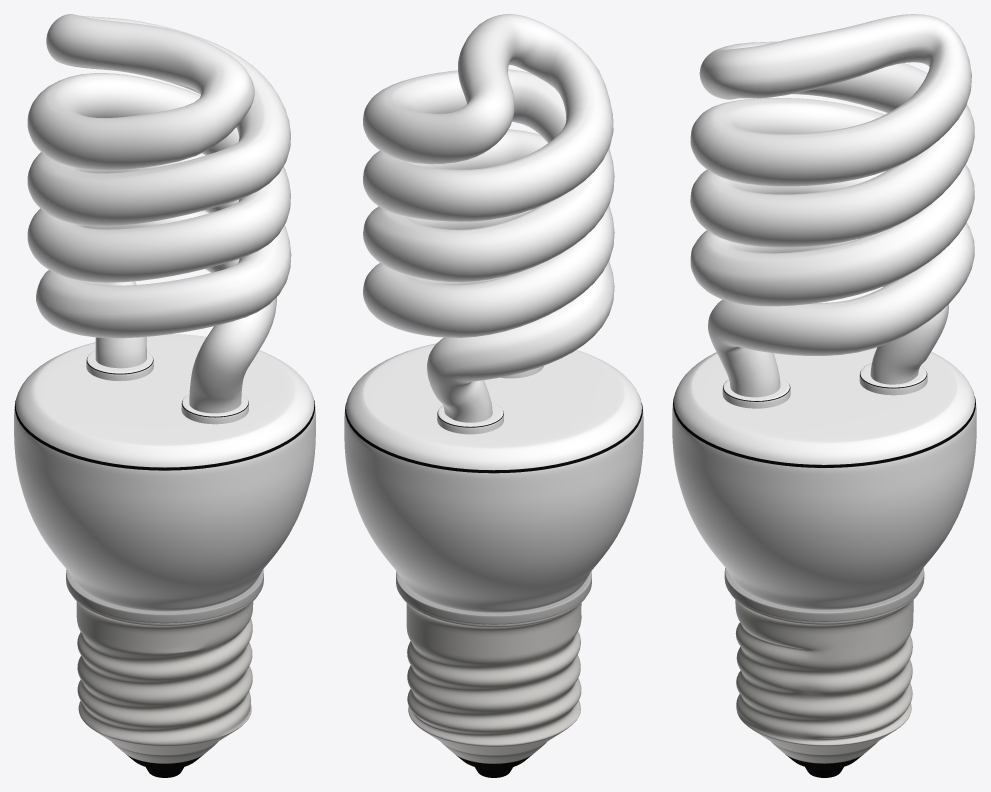
File: bulb.fbx
3 views of the same model, side by side, from view 1: azimuth 30°, elevation 25°; view 2: azimuth 150°, elevation 25°; view 3: azimuth 270°, elevation 25° (orthographic).
Parts seen in each view (by area): view 1: light_bulb; view 2: light_bulb; view 3: light_bulb.
Part boxes in pixels (x1=…): light_bulb: x1=14, y1=14, x2=315, y2=777; light_bulb: x1=344, y1=14, x2=643, y2=777; light_bulb: x1=672, y1=14, x2=976, y2=777.
Size of the model in its own units: 4.85 by 13.05 by 4.85.
1 material, 1 textured.
